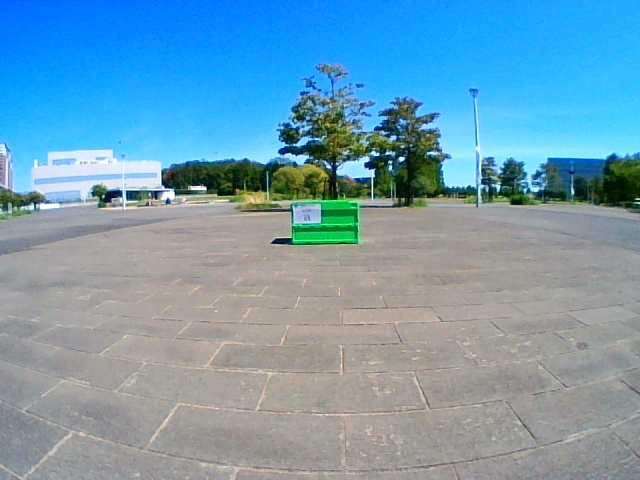green_box: (291, 199, 358, 244)
tag_a: (293, 205, 319, 223)
